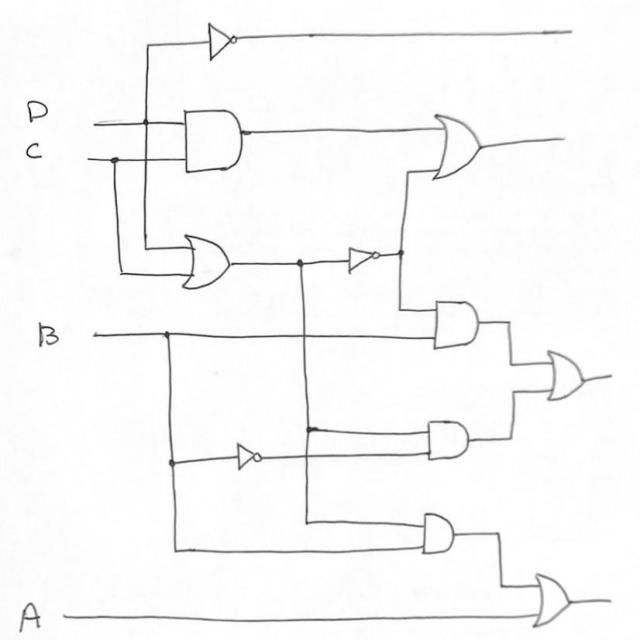AND: (172, 102, 256, 188), (425, 290, 495, 356), (423, 412, 482, 475), (412, 498, 458, 568)
NOT: (200, 20, 249, 66), (228, 437, 272, 482), (339, 238, 385, 276)
OR: (424, 106, 494, 194), (174, 226, 245, 297), (536, 338, 594, 422), (523, 562, 581, 635)
